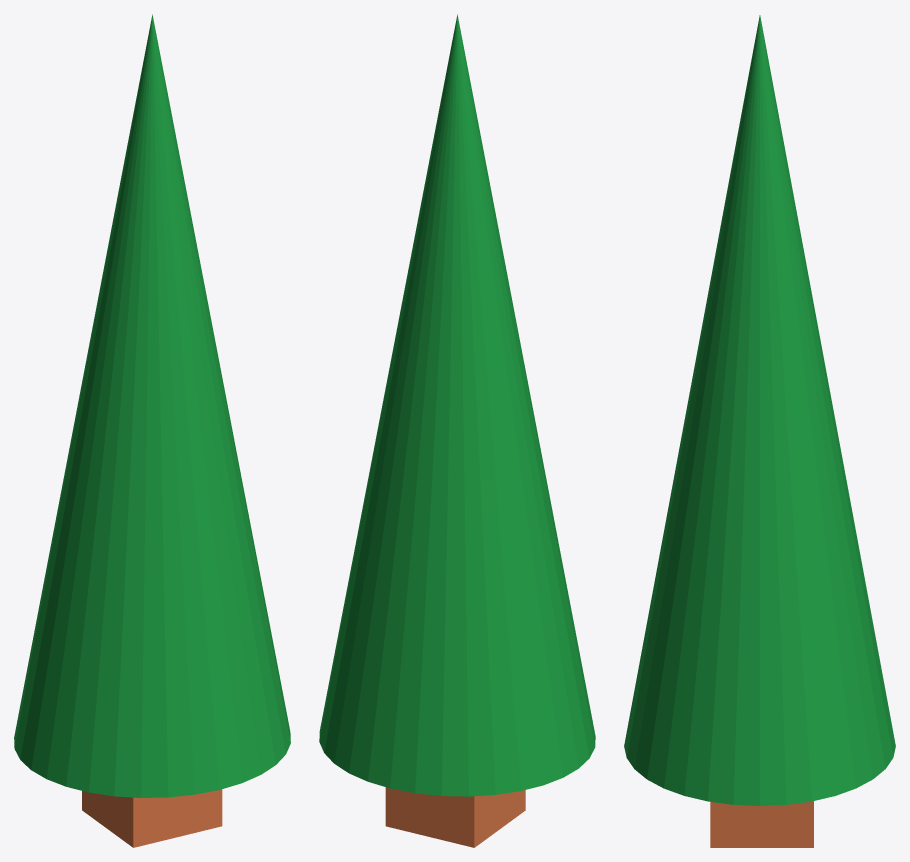
File: puntboom.obj
The picture shows the model from 3 angles, left to right: view 1: azimuth 30°, elevation 25°; view 2: azimuth 150°, elevation 25°; view 3: azimuth 270°, elevation 25°; orthographic projection.
Parts seen in each view (by area): view 1: Cube; view 2: Cube; view 3: Cube.
Part boxes in pixels (x1=…): Cube: x1=14, y1=14, x2=290, y2=847; Cube: x1=319, y1=14, x2=595, y2=847; Cube: x1=624, y1=15, x2=895, y2=847.
Size of the model in its own units: 2.73 by 8.64 by 2.62.
